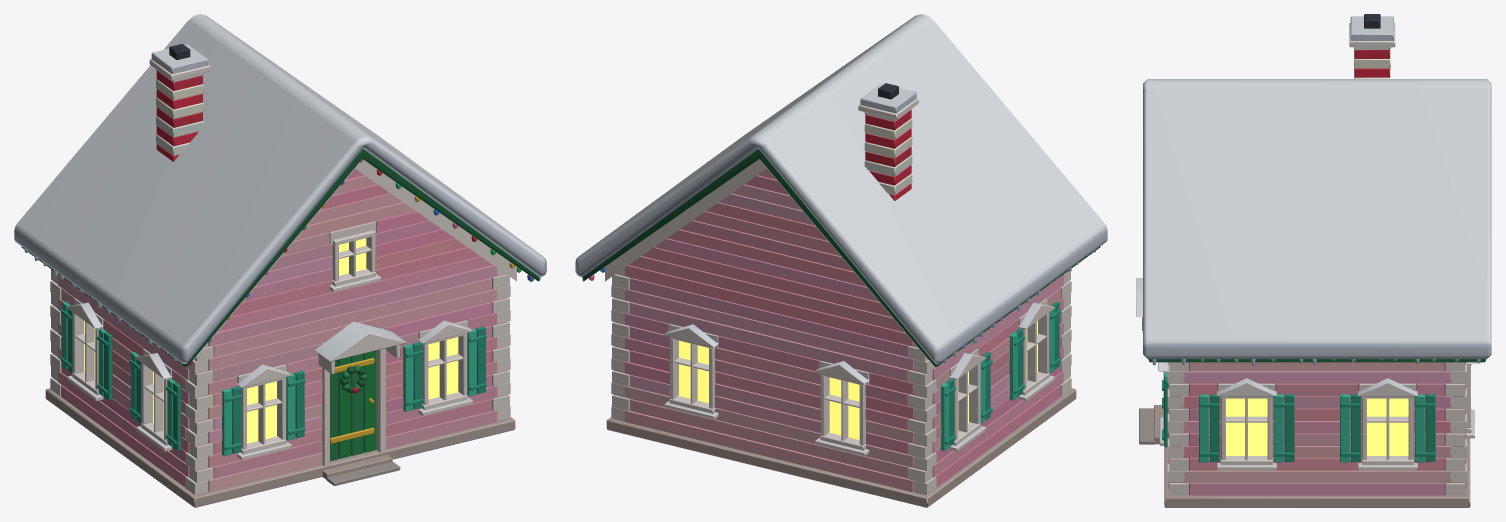
File: CandyHouse_Pink.glb
3 renders of one model, left to right at view 1: azimuth 30°, elevation 25°; view 2: azimuth 150°, elevation 25°; view 3: azimuth 270°, elevation 25°, orthographic. The views are drawn at different scales.
Parts seen in each view (by area): view 1: CandyHouse_Pink_Roof, CandyHouse_Pink_Walls, CandyHouse_Pink_Trim, CandyHouse_Pink_Door, CandyHouse_Pink_Foundation, CandyHouse_Pink_Chimney, CandyHouse_Pink_Glow; view 2: CandyHouse_Pink_Walls, CandyHouse_Pink_Roof, CandyHouse_Pink_Trim, CandyHouse_Pink_Foundation, CandyHouse_Pink_Chimney, CandyHouse_Pink_Glow; view 3: CandyHouse_Pink_Roof, CandyHouse_Pink_Walls, CandyHouse_Pink_Trim, CandyHouse_Pink_Foundation, CandyHouse_Pink_Glow, CandyHouse_Pink_Chimney, CandyHouse_Pink_Door.
Boxes of the visible parts, left/top/right/bottom form: CandyHouse_Pink_Roof: left=14, top=14, right=546, bottom=367; CandyHouse_Pink_Walls: left=50, top=159, right=516, bottom=494; CandyHouse_Pink_Trim: left=60, top=230, right=486, bottom=460; CandyHouse_Pink_Door: left=314, top=321, right=406, bottom=485; CandyHouse_Pink_Foundation: left=45, top=388, right=515, bottom=507; CandyHouse_Pink_Chimney: left=149, top=43, right=209, bottom=161; CandyHouse_Pink_Glow: left=84, top=238, right=458, bottom=443; CandyHouse_Pink_Walls: left=605, top=159, right=1071, bottom=494; CandyHouse_Pink_Roof: left=575, top=14, right=1107, bottom=367; CandyHouse_Pink_Trim: left=664, top=301, right=1061, bottom=456; CandyHouse_Pink_Foundation: left=606, top=388, right=1076, bottom=507; CandyHouse_Pink_Chimney: left=858, top=83, right=918, bottom=200; CandyHouse_Pink_Glow: left=678, top=321, right=1037, bottom=439; CandyHouse_Pink_Roof: left=1143, top=79, right=1491, bottom=365; CandyHouse_Pink_Walls: left=1167, top=362, right=1466, bottom=495; CandyHouse_Pink_Trim: left=1158, top=362, right=1475, bottom=470; CandyHouse_Pink_Foundation: left=1164, top=371, right=1470, bottom=507; CandyHouse_Pink_Glow: left=1226, top=398, right=1408, bottom=455; CandyHouse_Pink_Chimney: left=1349, top=14, right=1395, bottom=78; CandyHouse_Pink_Door: left=1136, top=278, right=1163, bottom=444.
Size of the model in its own units: 29.2 by 27.81 by 23.95.
